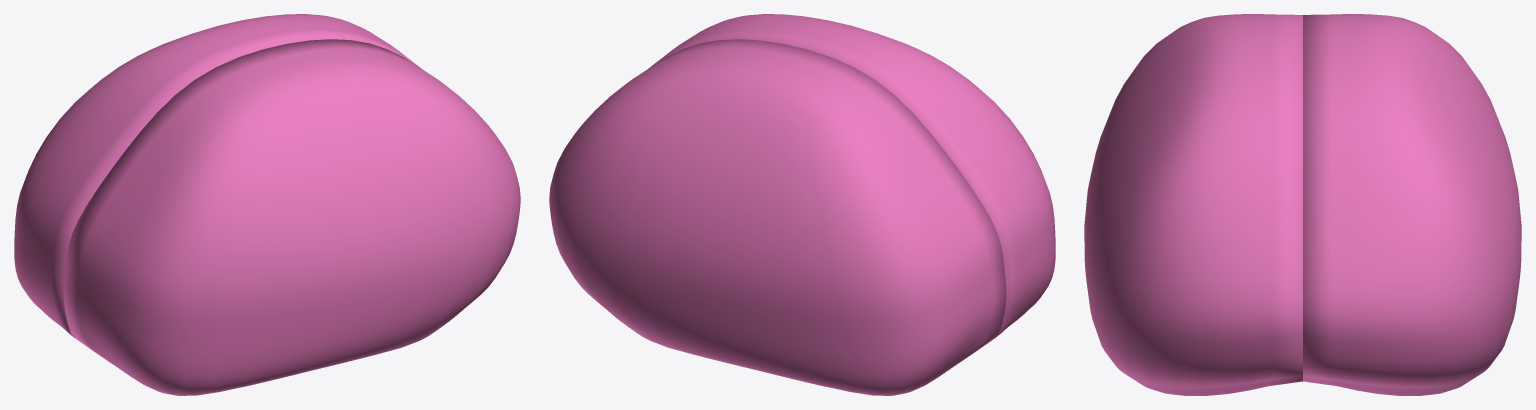
File: WholeBrain skybox .fbx
3 renders of one model, left to right at view 1: azimuth 30°, elevation 25°; view 2: azimuth 150°, elevation 25°; view 3: azimuth 270°, elevation 25°, orthographic. The views are drawn at different scales.
Parts seen in each view (by area): view 1: Cube.006, Cube.005; view 2: Cube.005, Cube.006; view 3: Cube.005, Cube.006.
Part boxes in pixels (bbox=[...]): Cube.006: bbox=[63, 39, 520, 395]; Cube.005: bbox=[14, 14, 421, 337]; Cube.005: bbox=[549, 39, 1006, 395]; Cube.006: bbox=[648, 14, 1055, 337]; Cube.005: bbox=[1303, 14, 1521, 395]; Cube.006: bbox=[1084, 14, 1302, 395].
Size of the model in its own units: 424 by 262 by 337.
